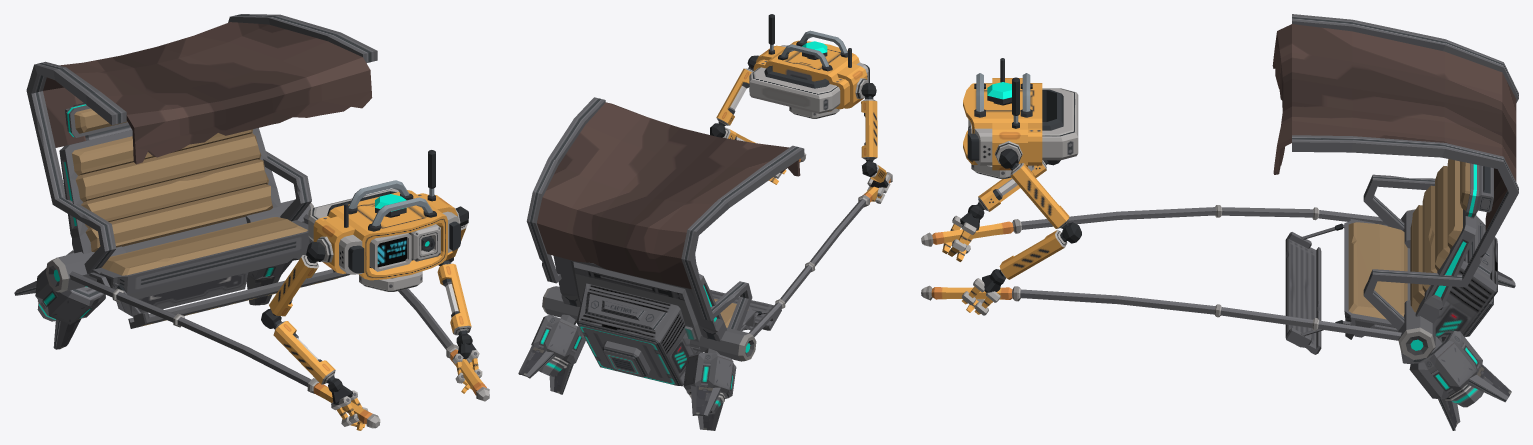
File: SM_Veh_Cart_01.fbx
3 renders of one model, left to right at view 1: azimuth 30°, elevation 25°; view 2: azimuth 150°, elevation 25°; view 3: azimuth 270°, elevation 25°, orthographic. The views are drawn at different scales.
Parts seen in each view (by area): view 1: SM_Veh_Cart_01; view 2: SM_Veh_Cart_01; view 3: SM_Veh_Cart_01.
Boxes of the visible parts, x1,y1,x2,y2 form: SM_Veh_Cart_01: (14, 14, 489, 430); SM_Veh_Cart_01: (518, 14, 892, 430); SM_Veh_Cart_01: (921, 14, 1518, 430).
Bounding box in the file's own units: 211 × 249 × 415.
